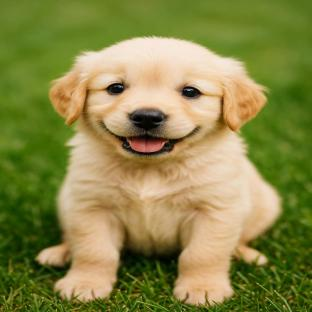Animal: (36, 37, 281, 306)
